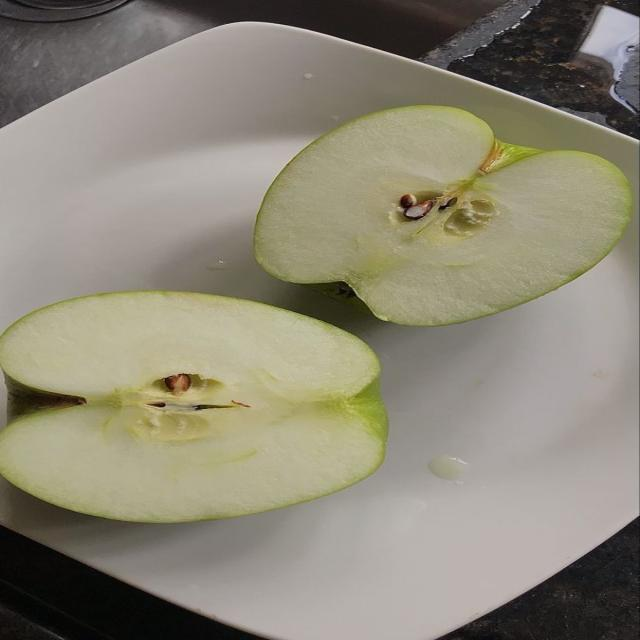apple: (0, 292, 386, 522), (256, 106, 631, 325)
